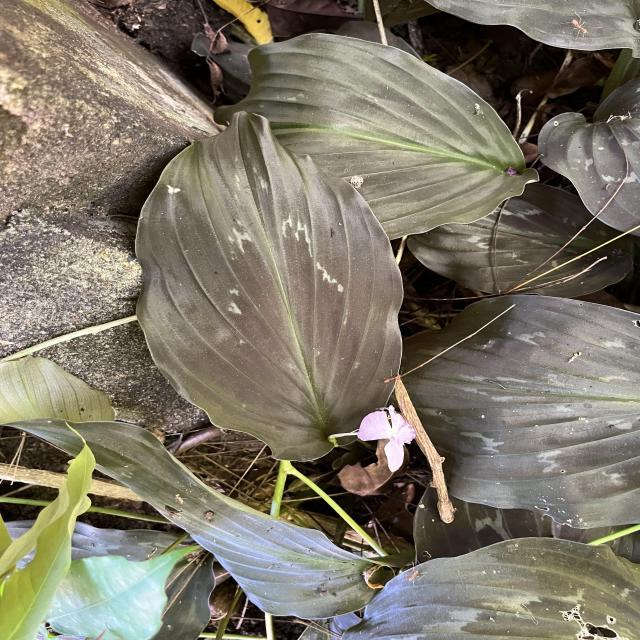Kaempferia galanga linn: (131, 108, 407, 468), (213, 28, 543, 244)
